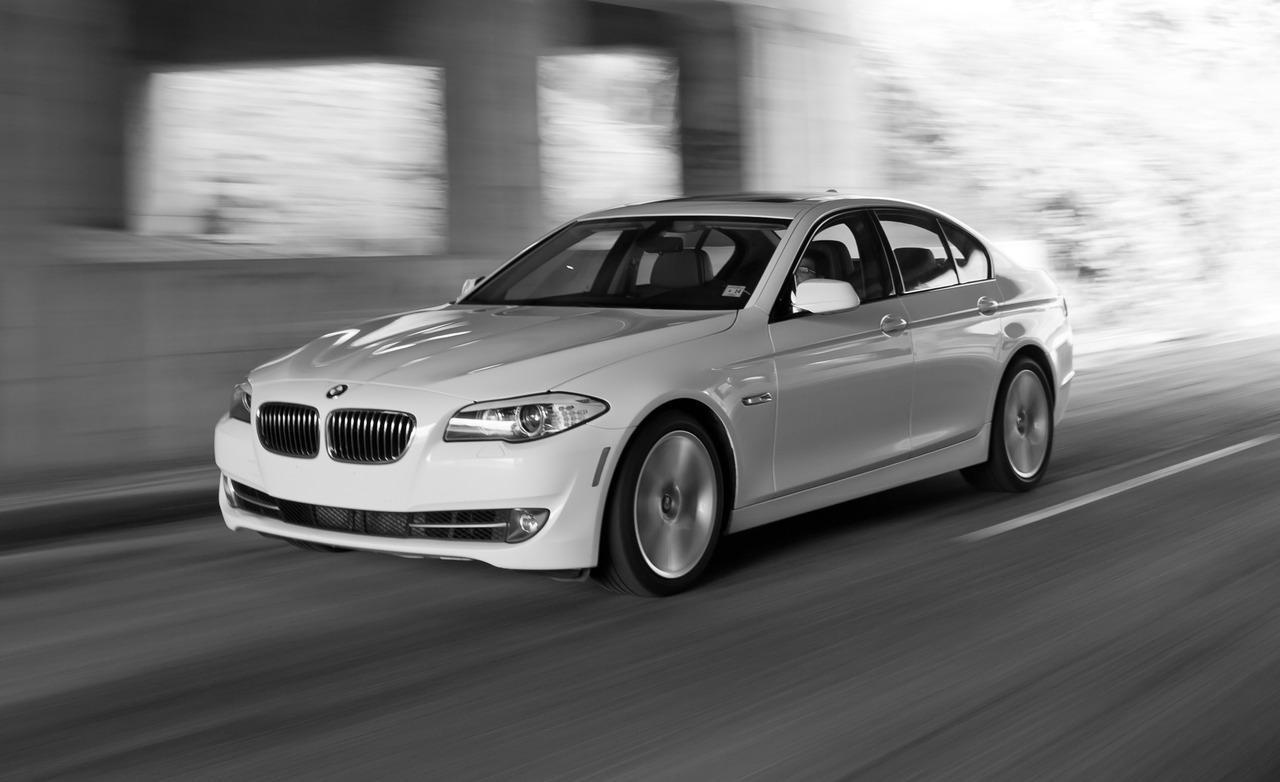car: (212, 191, 1076, 603)
